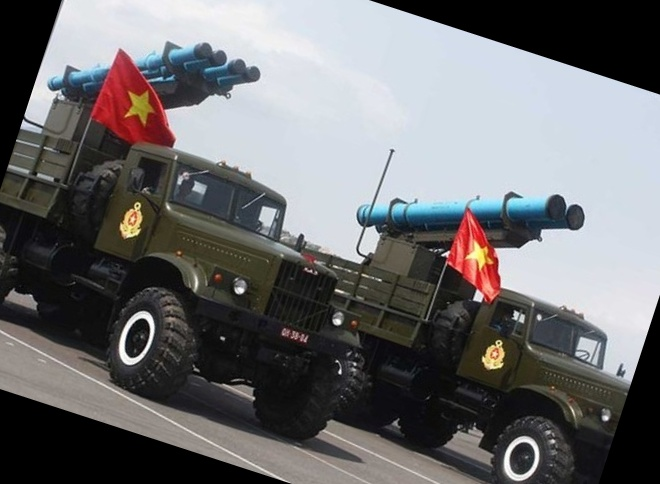plate: (280, 324, 306, 347)
